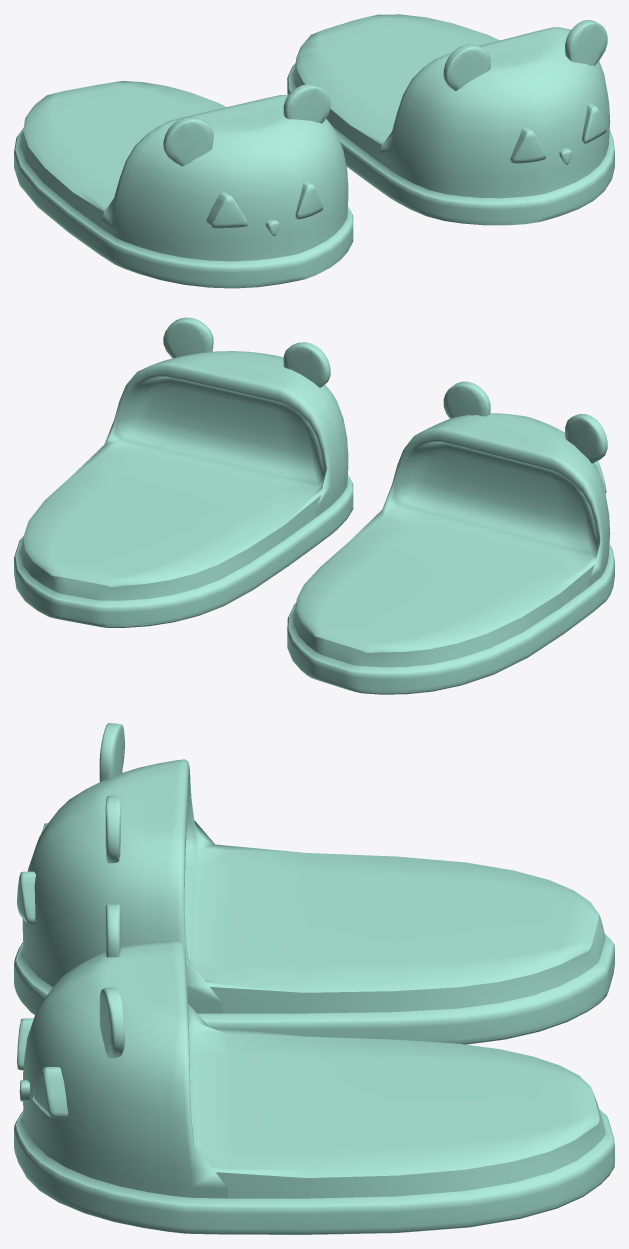
Rendered from Boots07_sandalspanda (1).fbx.
3 renders of one model, top to bottom at view 1: azimuth 30°, elevation 25°; view 2: azimuth 150°, elevation 25°; view 3: azimuth 270°, elevation 25°, orthographic. The views are drawn at different scales.
Visible parts, largest first — view 1: Sandals_Panda; view 2: Sandals_Panda; view 3: Sandals_Panda.
Boxes of the visible parts, box(x1,y1,x2,y2) form: Sandals_Panda: box(14, 14, 614, 288); Sandals_Panda: box(14, 317, 614, 694); Sandals_Panda: box(14, 723, 614, 1234).
Size of the model in its own units: 87.57 by 26.77 by 66.93.
